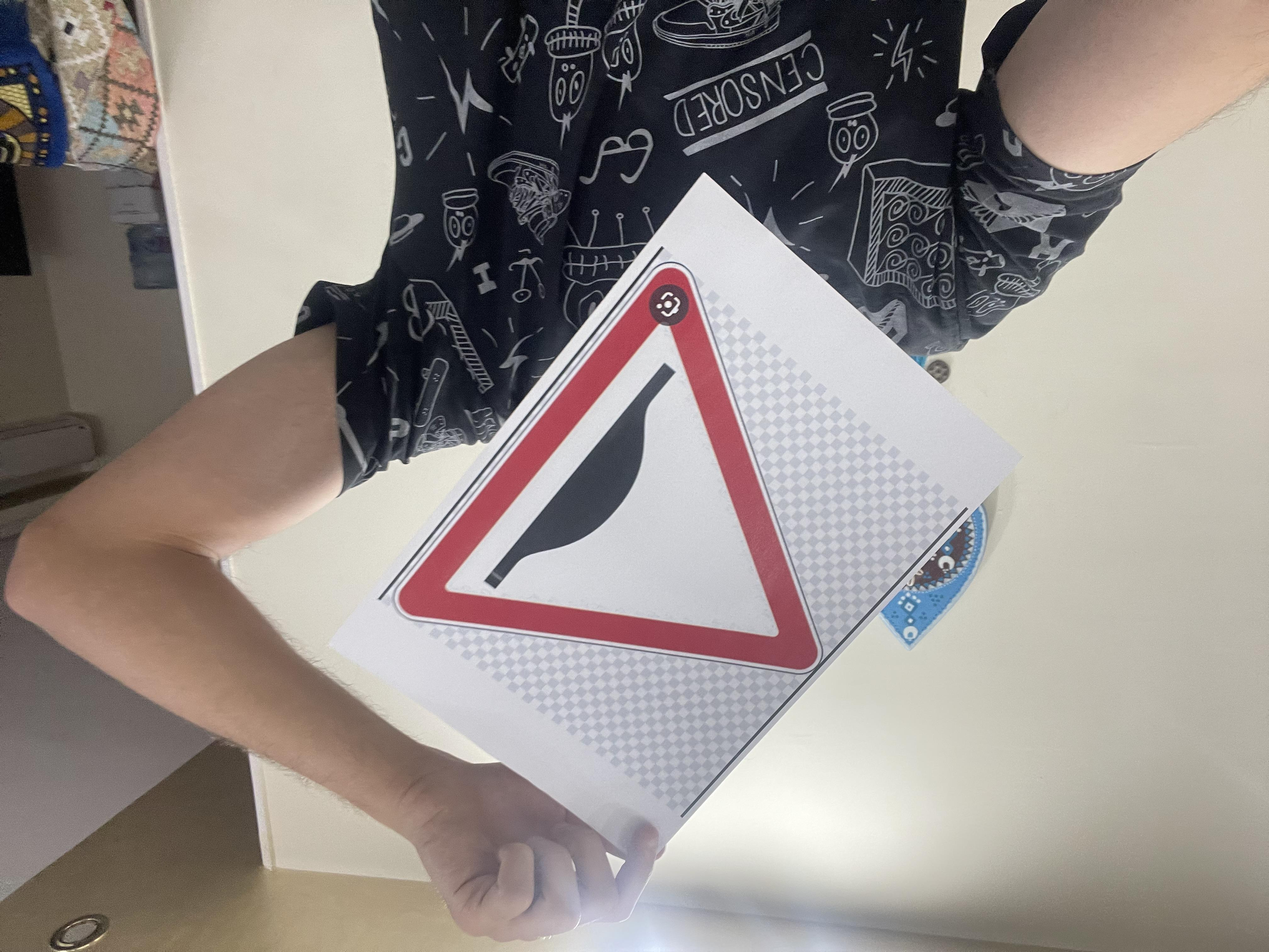Hump: (452, 277, 874, 701)
